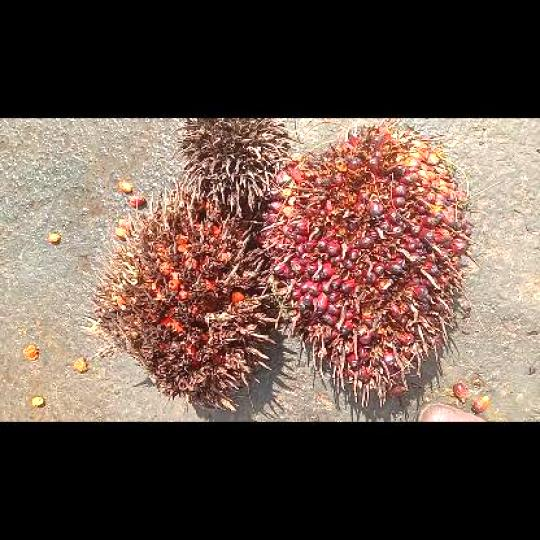masak: (261, 118, 479, 406)
terlalu masak: (84, 177, 277, 412)
